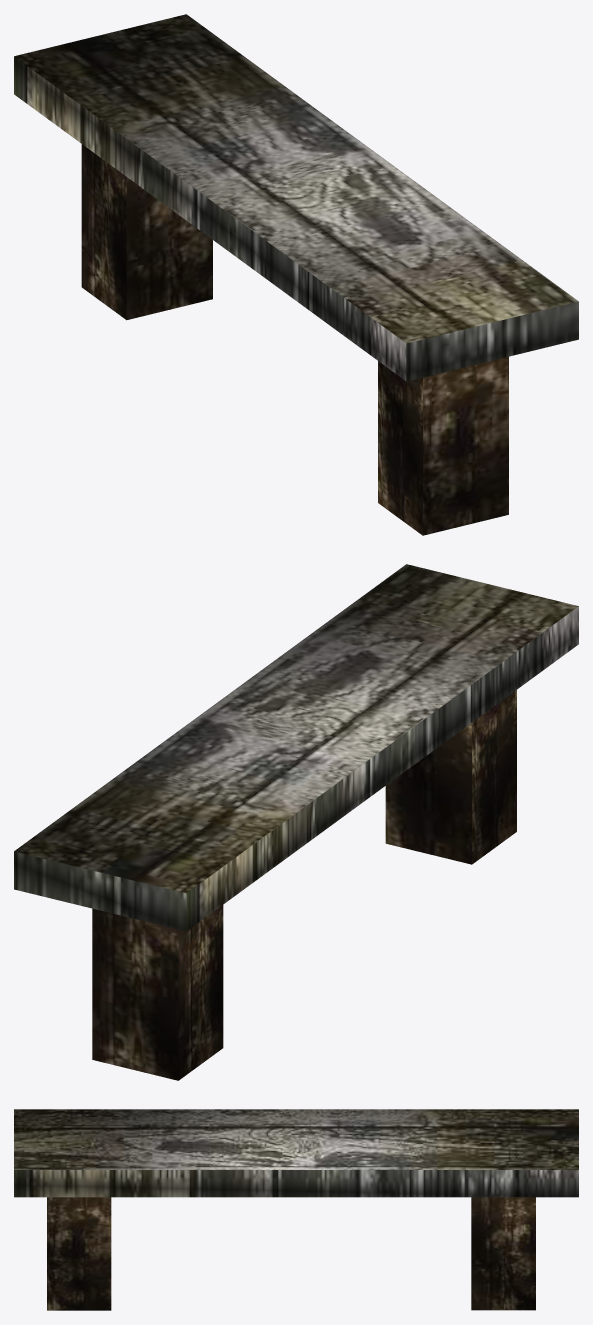
File: bench-02.obj
The picture shows the model from 3 angles, top to bottom: view 1: azimuth 30°, elevation 25°; view 2: azimuth 150°, elevation 25°; view 3: azimuth 270°, elevation 25°; orthographic projection. The views are drawn at different scales.
Bounding box in the file's own units: 0.4355 × 0.5272 × 1.72.
1 material, 1 textured.
